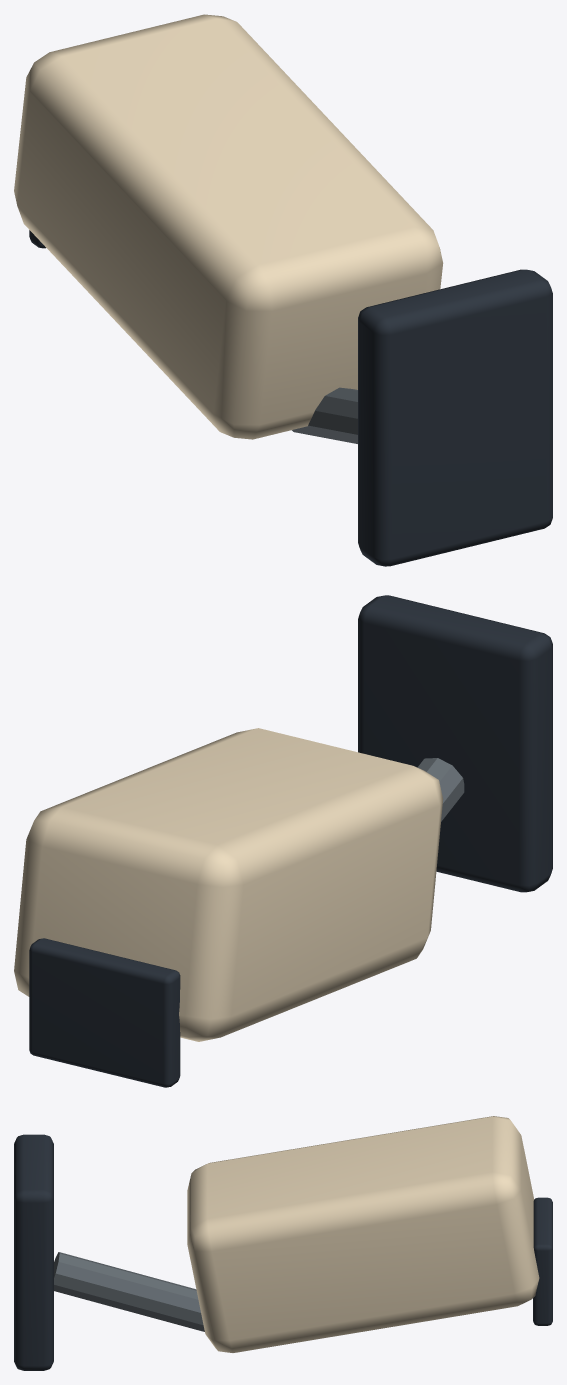
The model's file is security-camera.glb.
3 renders of one model, top to bottom at view 1: azimuth 30°, elevation 25°; view 2: azimuth 150°, elevation 25°; view 3: azimuth 270°, elevation 25°, orthographic. The views are drawn at different scales.
Parts seen in each view (by area): view 1: shell-cream, shell-navy, shell-metal; view 2: shell-cream, shell-navy, shell-metal; view 3: shell-cream, shell-navy, shell-metal.
Boxes of the visible parts, x1=… form: shell-cream: x1=14, y1=14, x2=443, y2=439; shell-navy: x1=29, y1=230, x2=552, y2=566; shell-metal: x1=292, y1=387, x2=357, y2=443; shell-cream: x1=14, y1=728, x2=443, y2=1041; shell-navy: x1=29, y1=595, x2=552, y2=1087; shell-metal: x1=417, y1=758, x2=464, y2=821; shell-cream: x1=187, y1=1116, x2=539, y2=1352; shell-navy: x1=14, y1=1134, x2=552, y2=1370; shell-metal: x1=54, y1=1252, x2=204, y2=1331.
Size of the model in its own units: 0.18 by 0.2197 by 0.54.
